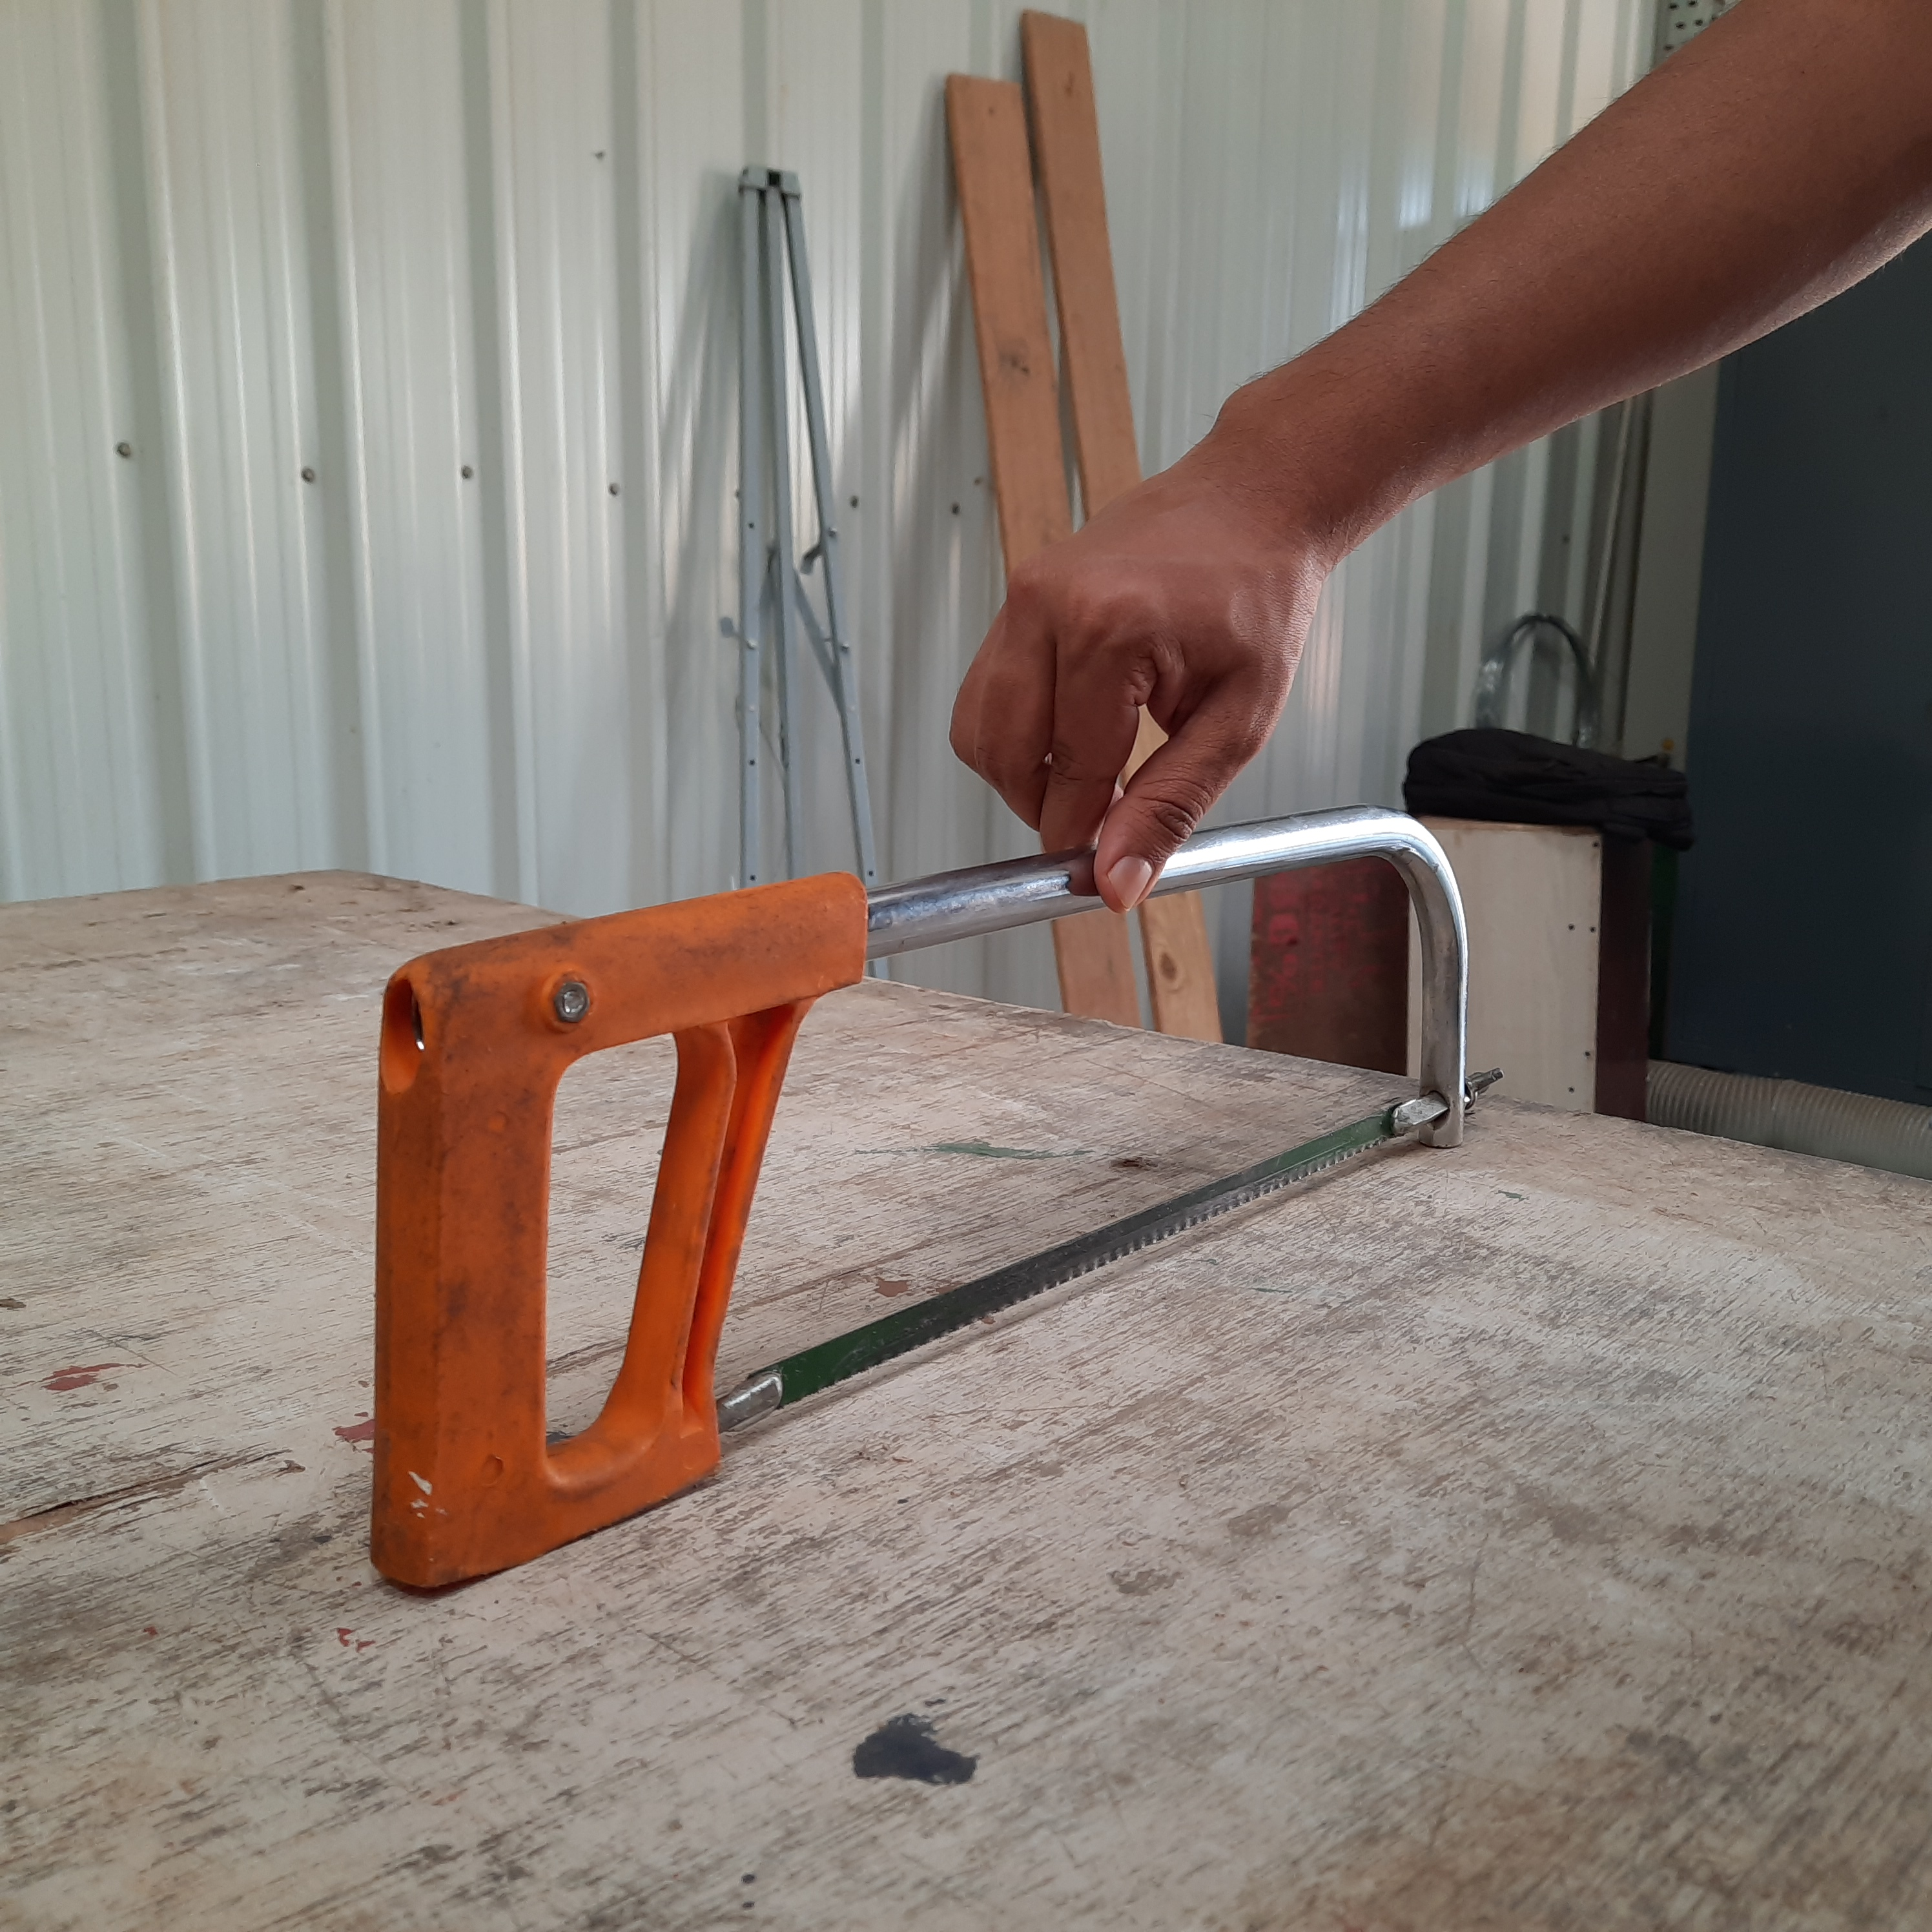Hexaframe: (290, 796, 1514, 1599)
